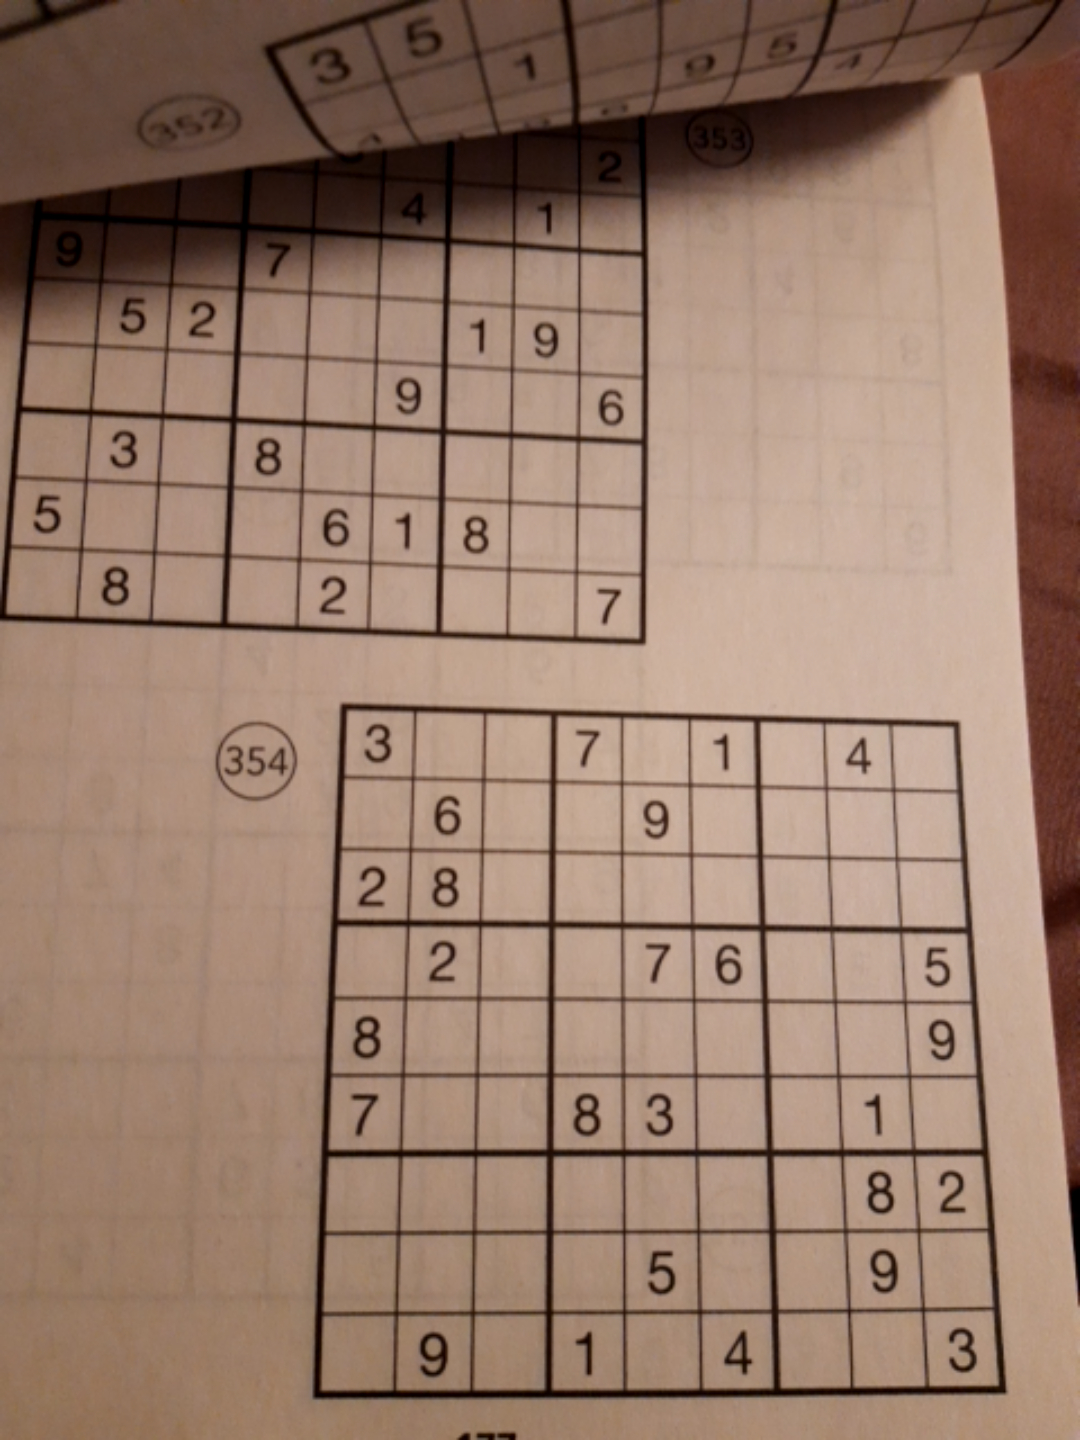sudoku: (313, 700, 1005, 1395)
